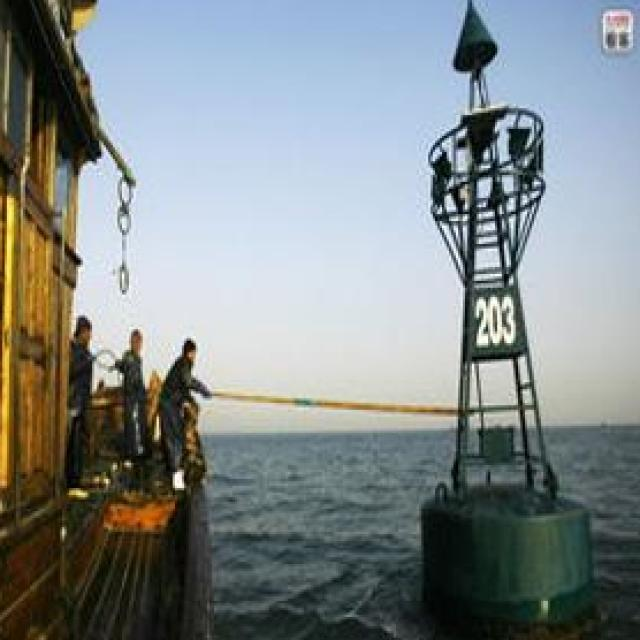buoy: (401, 0, 596, 638)
